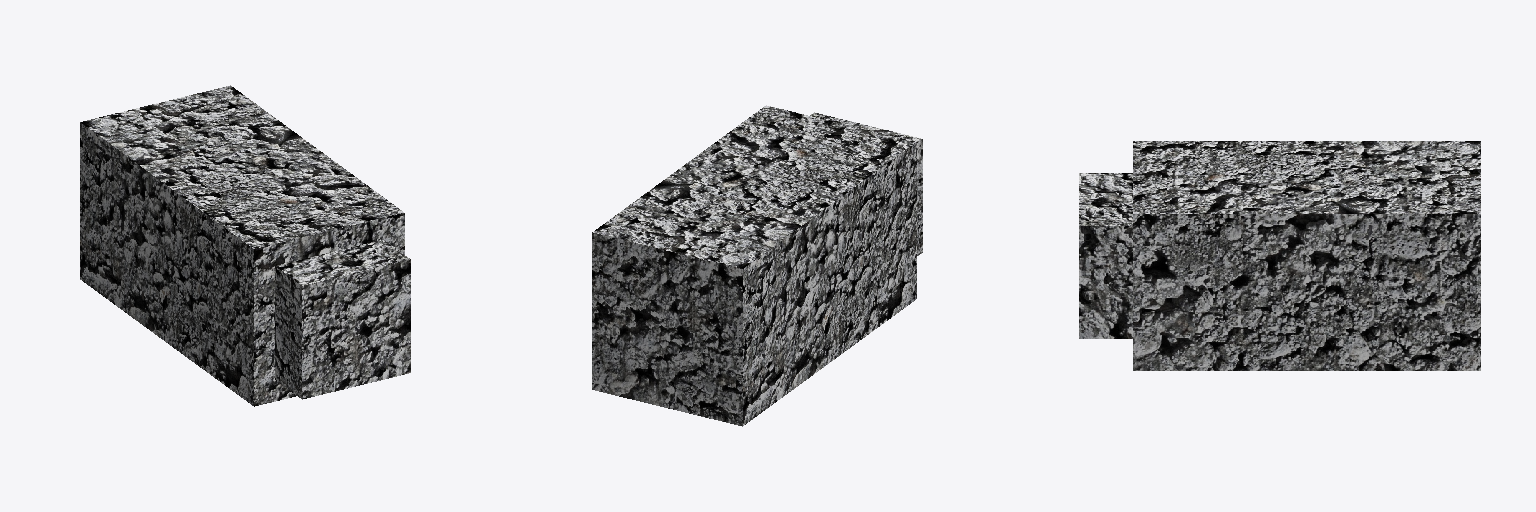
3 views of the same model, side by side, from view 1: azimuth 30°, elevation 25°; view 2: azimuth 150°, elevation 25°; view 3: azimuth 270°, elevation 25° (orthographic).
Visible parts, largest first — view 1: Box001; view 2: Box001; view 3: Box001.
Part boxes in pixels (left/top/right/bottom): Box001: left=80, top=85, right=410, bottom=406; Box001: left=592, top=105, right=922, bottom=426; Box001: left=1079, top=141, right=1480, bottom=370.
Bounding box in the file's own units: 10 × 10 × 23.13.
1 materials, 1 textured.